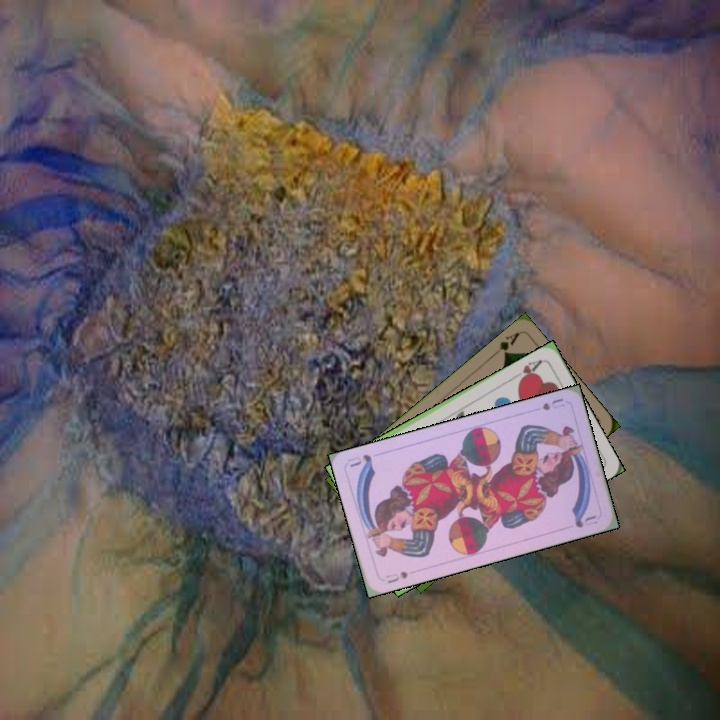GA: (488, 328, 522, 359)
HA: (508, 355, 545, 386)
SU: (381, 567, 411, 586), (538, 394, 567, 413)
